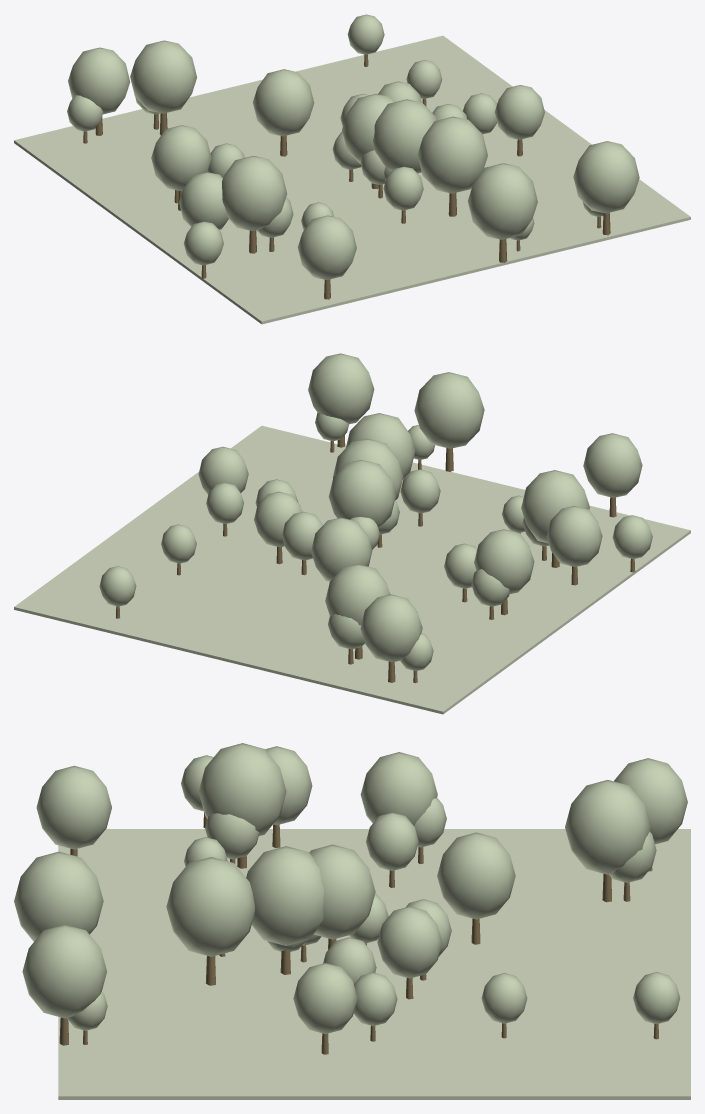
3 renders of one model, top to bottom at view 1: azimuth 30°, elevation 25°; view 2: azimuth 150°, elevation 25°; view 3: azimuth 270°, elevation 25°, orthographic. The views are drawn at different scales.
Parts seen in each view (by area): view 1: terrain, lod-near-18, lod-near-1, lod-near-23, lod-near-12, lod-near-7, lod-near-0, lod-near-8, lod-near-17, lod-near-10, lod-near-21, lod-near-2 (+13 smaller); view 2: terrain, lod-near-1, lod-near-7, lod-near-26, lod-near-10, lod-near-17, lod-near-23, lod-near-8, lod-near-21, lod-near-5, lod-near-12, lod-near-18 (+16 smaller); view 3: terrain, lod-near-18, lod-near-0, lod-near-12, lod-near-7, lod-near-1, lod-near-23, lod-near-8, lod-near-17, lod-near-26, lod-near-21, lod-near-28 (+16 smaller).
Boxes of the visible parts, x1,y1,x2,y2 form: terrain: (14,35,690,324); lod-near-18: (417,116,487,193); lod-near-1: (468,163,537,239); lod-near-23: (222,156,287,230); lod-near-12: (130,40,196,113); lod-near-7: (573,141,639,213); lod-near-0: (373,99,436,173); lod-near-8: (253,69,314,136); lod-near-17: (297,215,356,279); lod-near-10: (68,47,130,114); lod-near-21: (151,125,211,190); lod-near-2: (494,85,544,139); terrain: (14,425,690,714); lod-near-1: (414,372,484,448); lod-near-7: (308,353,374,424); lod-near-26: (328,460,395,528); lod-near-10: (360,594,422,662); lod-near-17: (583,433,642,497); lod-near-23: (521,470,589,543); lod-near-8: (311,517,372,581); lod-near-21: (474,529,534,593); lod-near-5: (546,506,602,566); lod-near-12: (325,564,390,625); lod-near-18: (346,413,415,479); terrain: (58,829,690,1099); lod-near-18: (166,857,254,956); lod-near-0: (246,846,324,945); lod-near-12: (565,780,650,874); lod-near-7: (22,924,106,1018); lod-near-1: (14,851,103,941); lod-near-23: (198,743,286,835); lod-near-8: (437,832,515,919); lod-near-17: (36,765,111,849); lod-near-26: (309,844,375,939); lod-near-21: (360,752,437,825); lod-near-28: (377,906,442,978).
Size of the model in its own units: 33.29 by 7.21 by 34.25.
